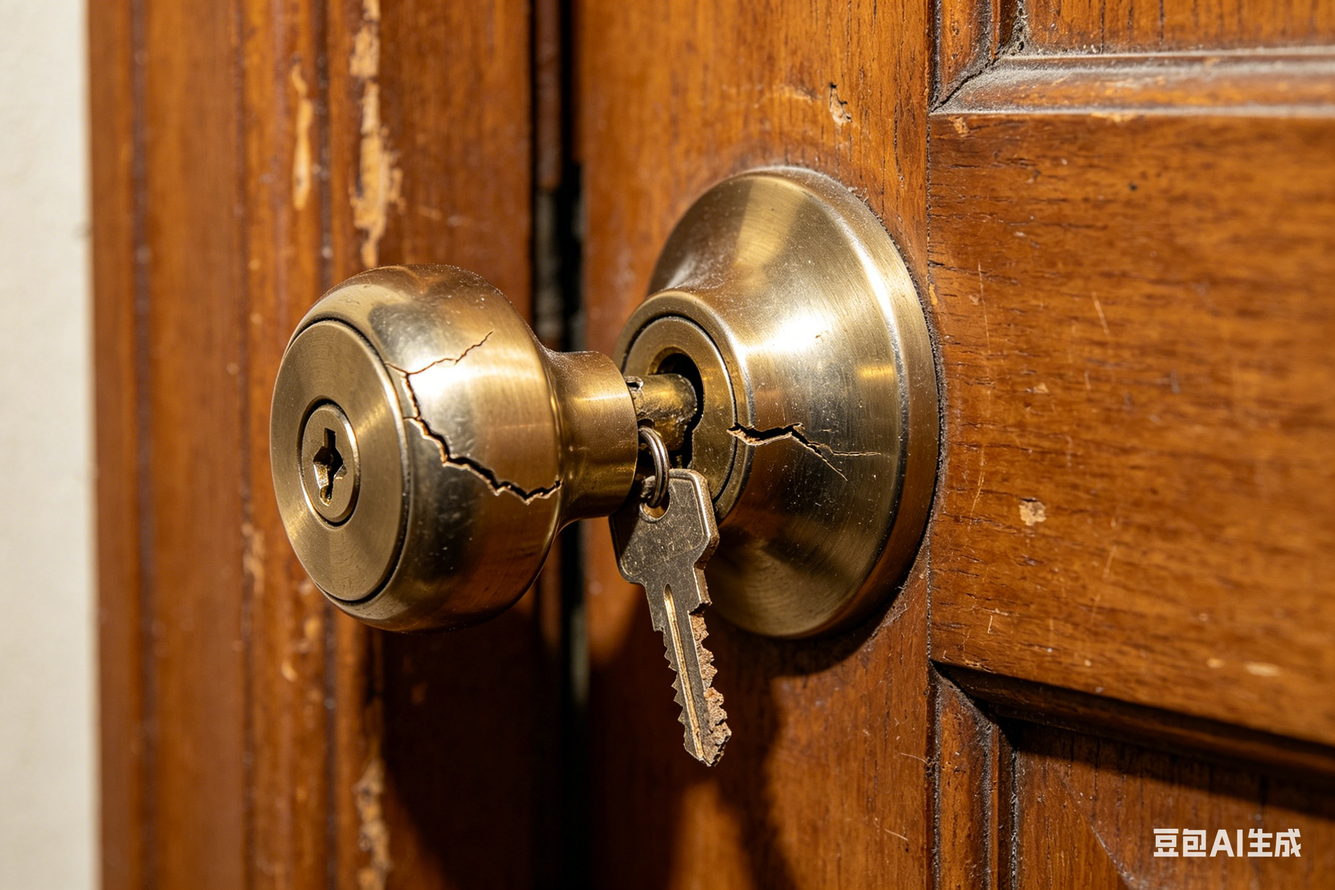BadLock: (386, 343, 563, 514), (726, 386, 859, 503)
